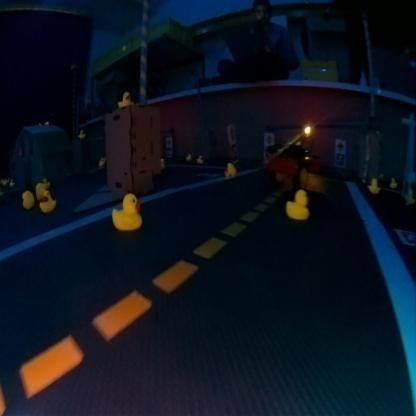Duckie: (111, 193, 136, 228), (286, 189, 309, 219), (39, 192, 55, 212), (117, 92, 133, 107), (223, 162, 236, 177), (368, 179, 380, 194), (21, 190, 31, 207), (389, 178, 397, 188), (159, 158, 166, 168), (196, 155, 203, 163), (185, 152, 191, 160), (78, 129, 84, 137), (8, 178, 14, 186), (98, 160, 104, 166)
Intersection sign: (336, 140, 345, 154)
QR code: (335, 154, 344, 166)
